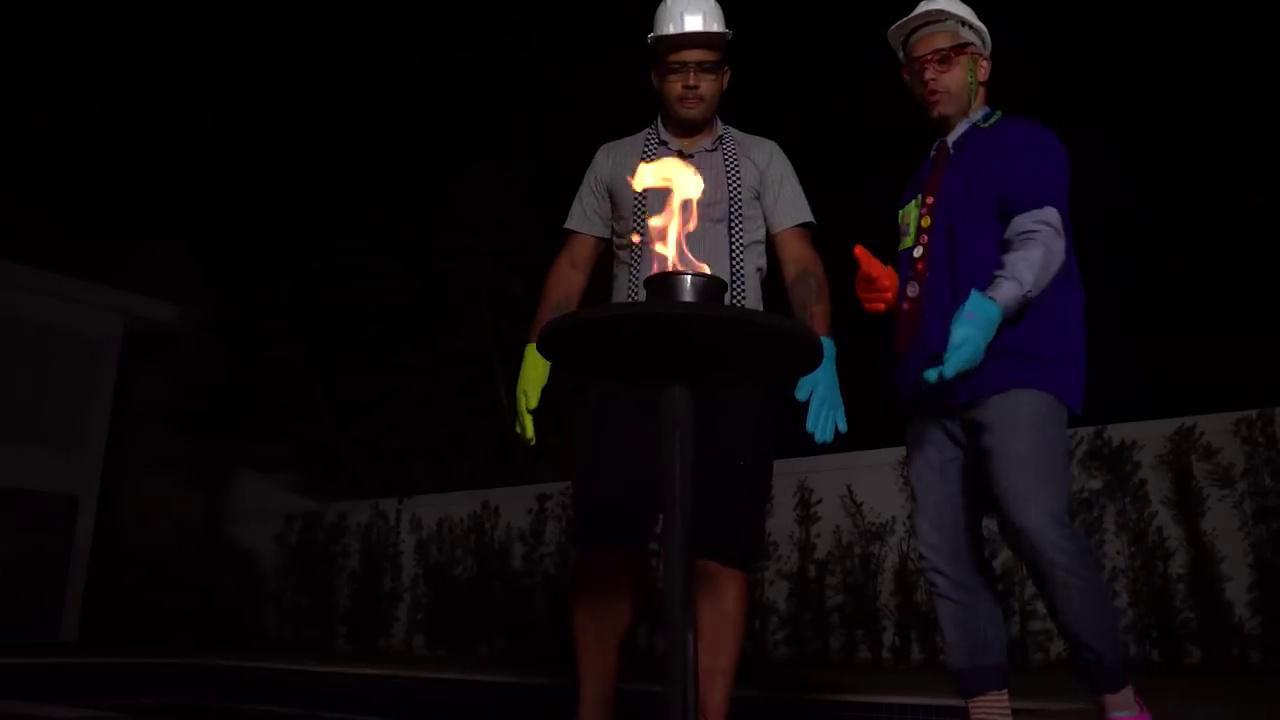Fire: (606, 149, 740, 271)
